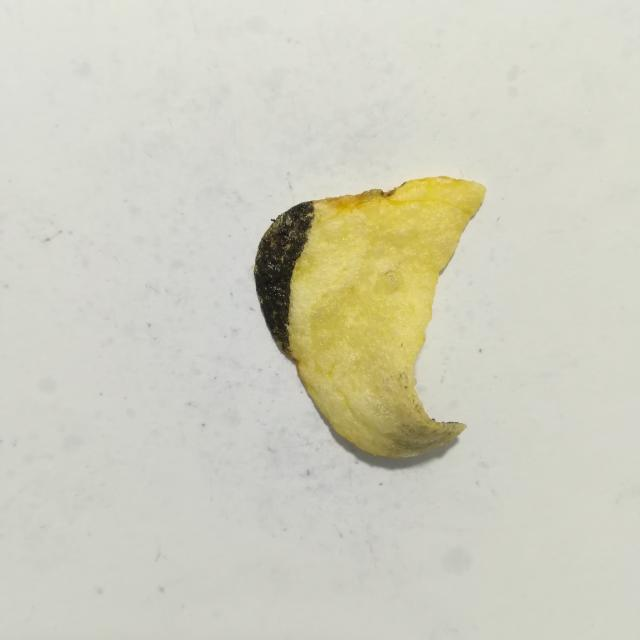chip: (254, 177, 486, 457)
damaged: (254, 201, 314, 356)
semi-damaged: (370, 367, 466, 458)
